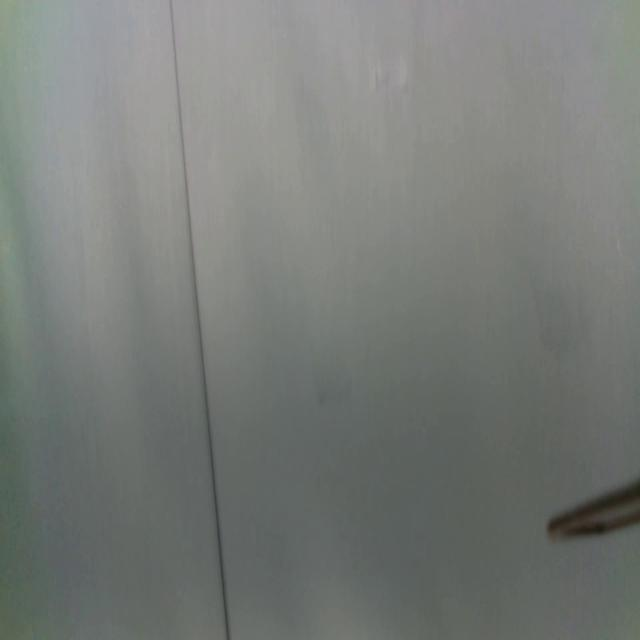crease: (168, 0, 231, 640)
